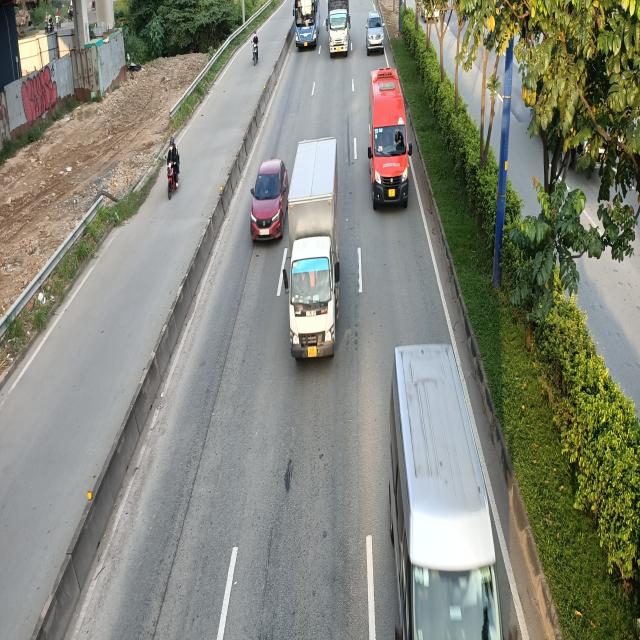car: (252, 160, 288, 244), (364, 12, 384, 54)
coach: (294, 1, 319, 50)
truck: (281, 140, 340, 363), (325, 0, 350, 57)
van: (388, 339, 505, 640), (370, 68, 413, 208)
